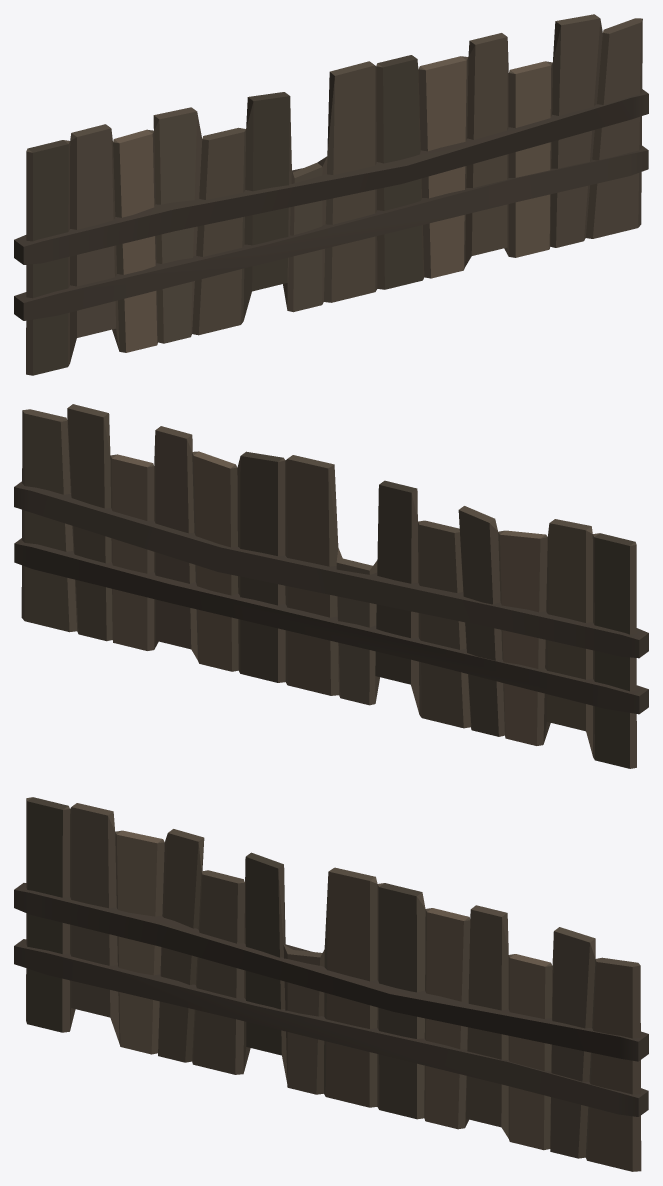
The model's file is SM_Prop_Fence_03.glb.
3 views of the same model, one above another, from view 1: azimuth 30°, elevation 25°; view 2: azimuth 150°, elevation 25°; view 3: azimuth 330°, elevation 25° (orthographic).
Parts seen in each view (by area): view 1: SM_Prop_Fence_03; view 2: SM_Prop_Fence_03; view 3: SM_Prop_Fence_03.
Part boxes in pixels (x1,y1,x2,y2): SM_Prop_Fence_03: (14, 14, 648, 375); SM_Prop_Fence_03: (14, 404, 648, 768); SM_Prop_Fence_03: (14, 797, 648, 1171).
Bounding box in the file's own units: 0.0401 × 0.014 × 0.00224.
